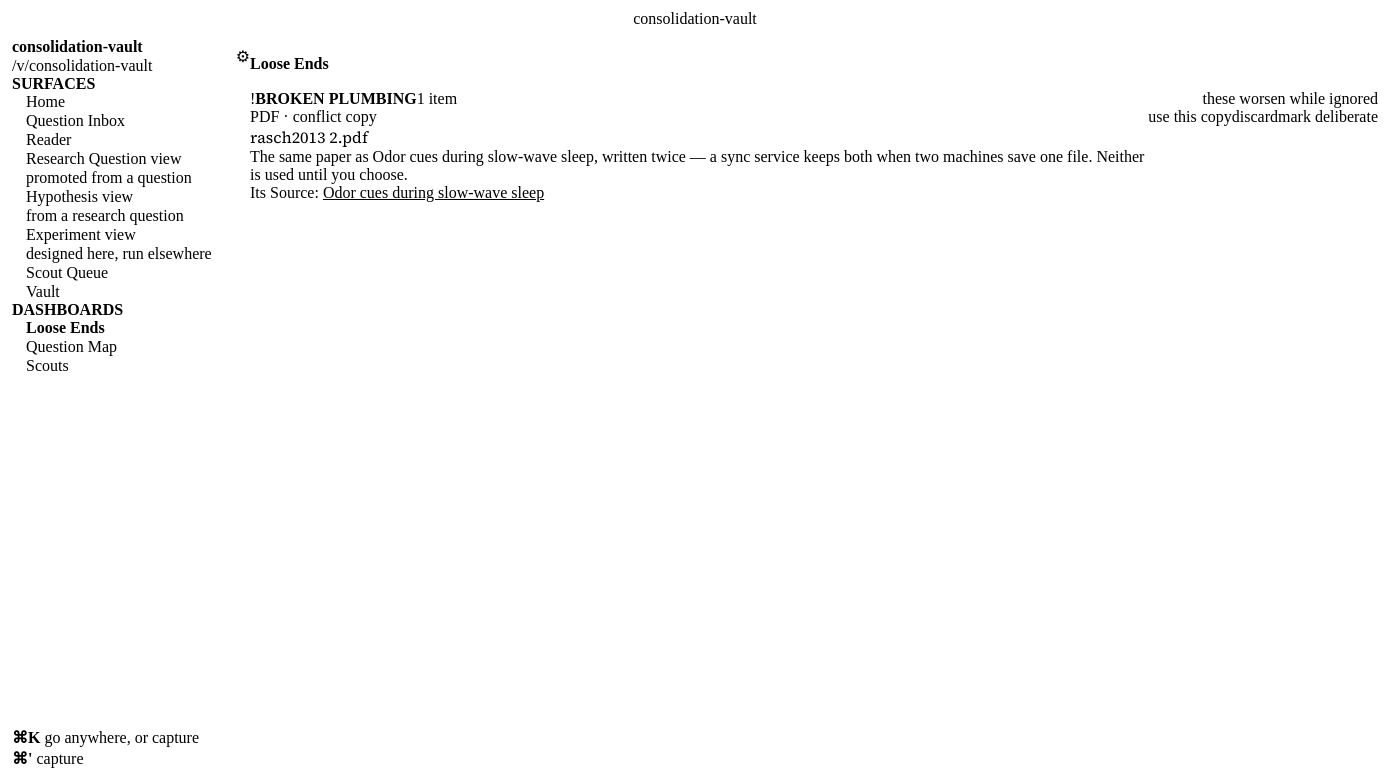
it: a conflict copy row › shows a refusal on its row and keeps the choices
This screenshot has width=1390, height=768.
Click the button "discard": (1255, 117) [1232,108,1278,126]
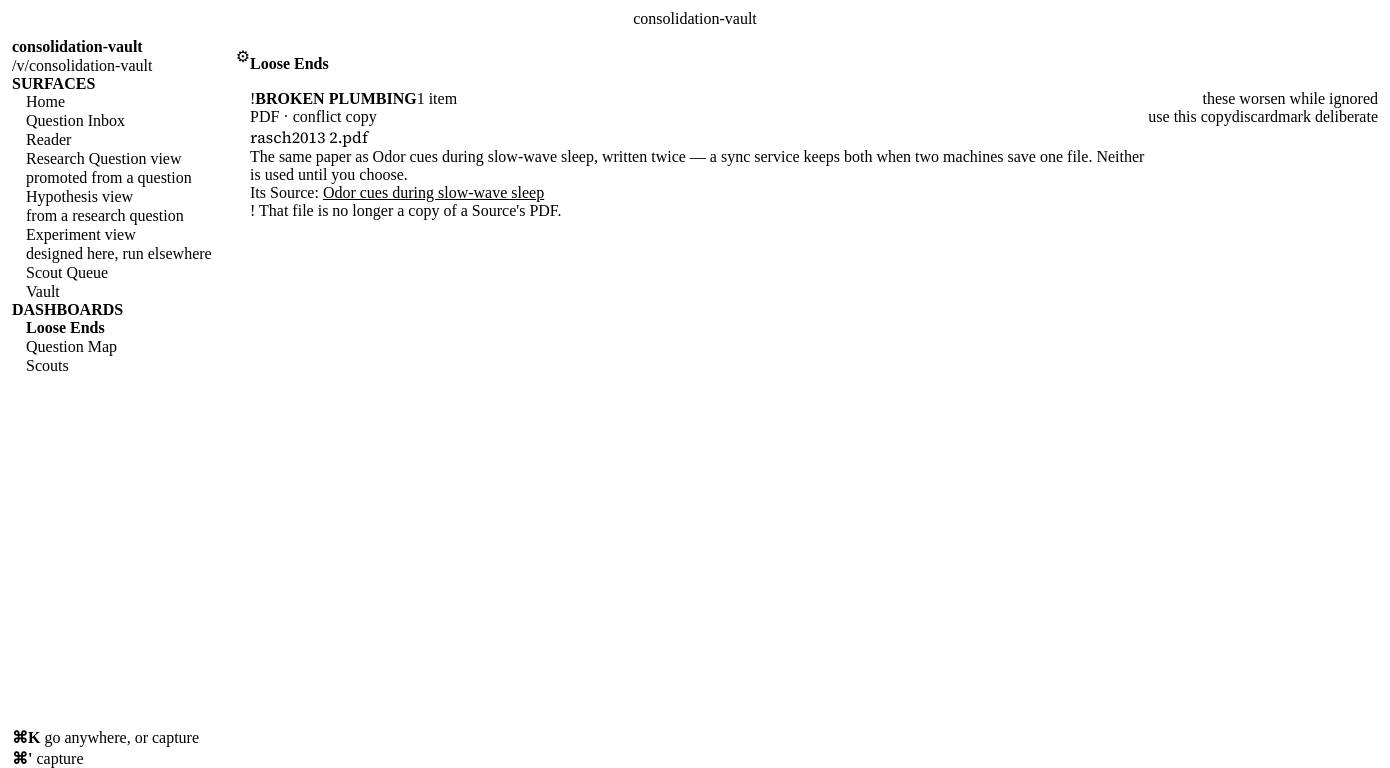
Result: the message shows "no longer a copy" at [259,202,561,219]
